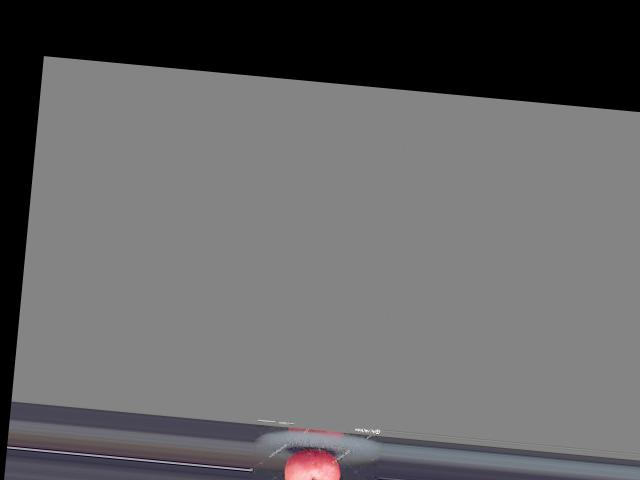tomato: (281, 446, 342, 480)
